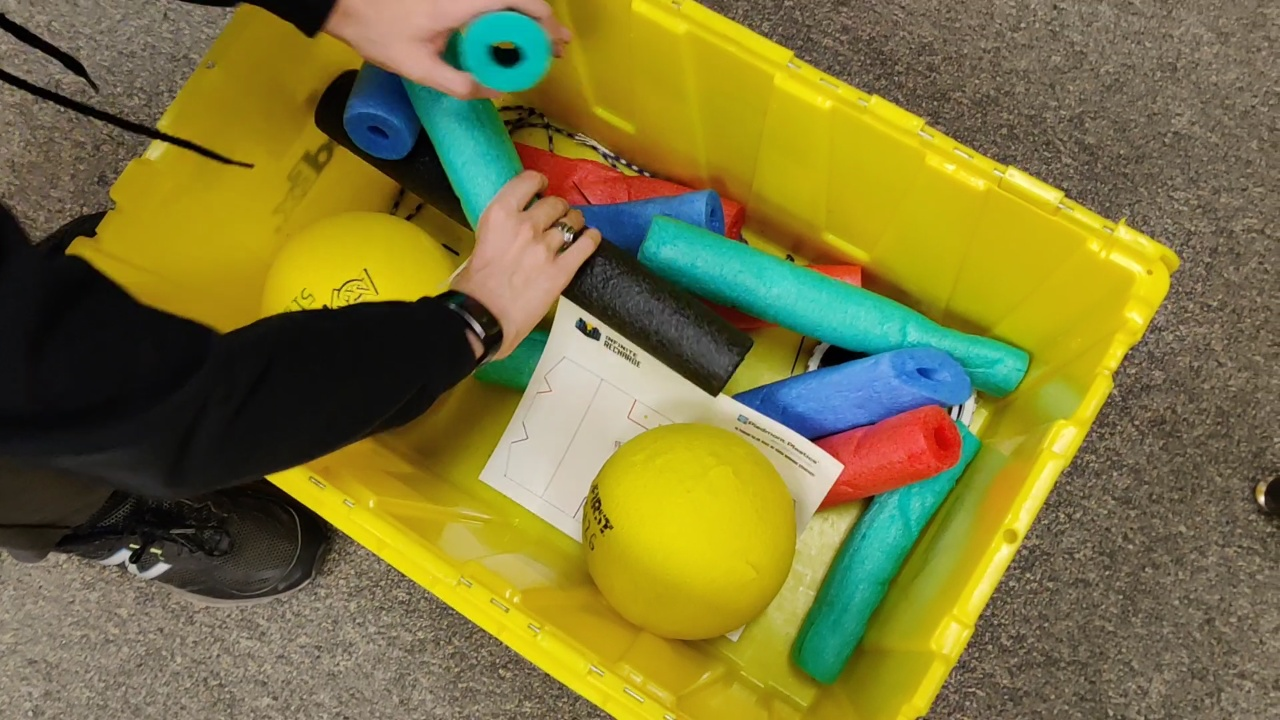Ball: (577, 423, 801, 643), (256, 210, 447, 304)
